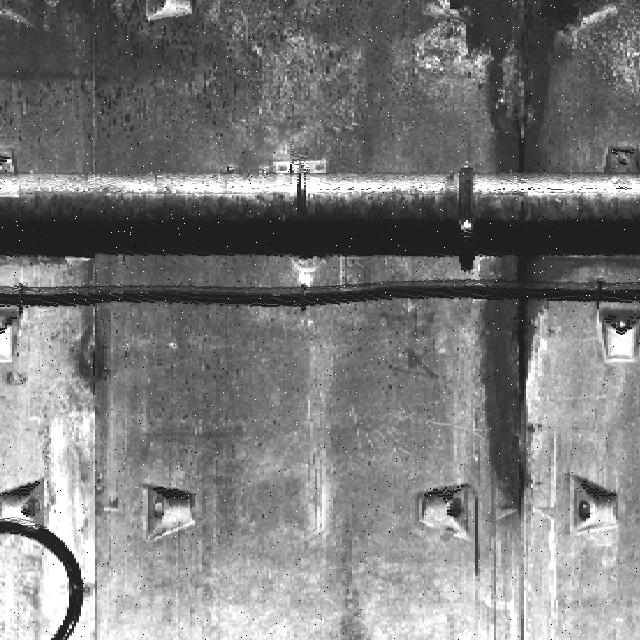leakage: (450, 1, 623, 181), (467, 253, 577, 527)
